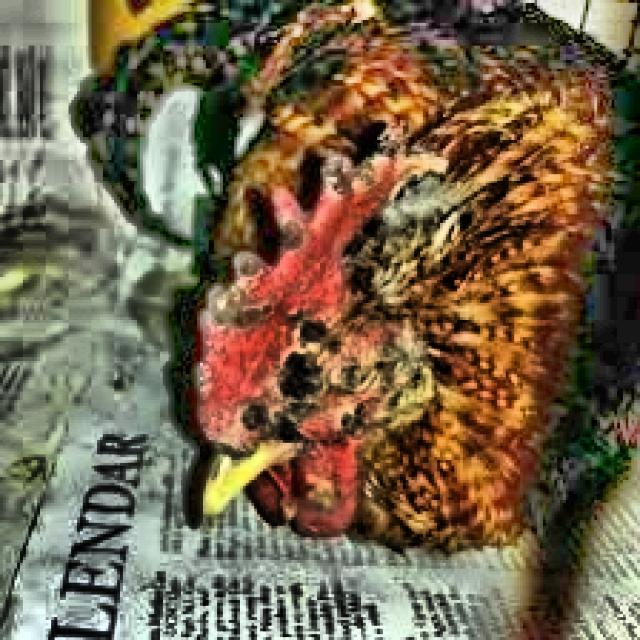Fowlpox: (193, 123, 460, 528)
